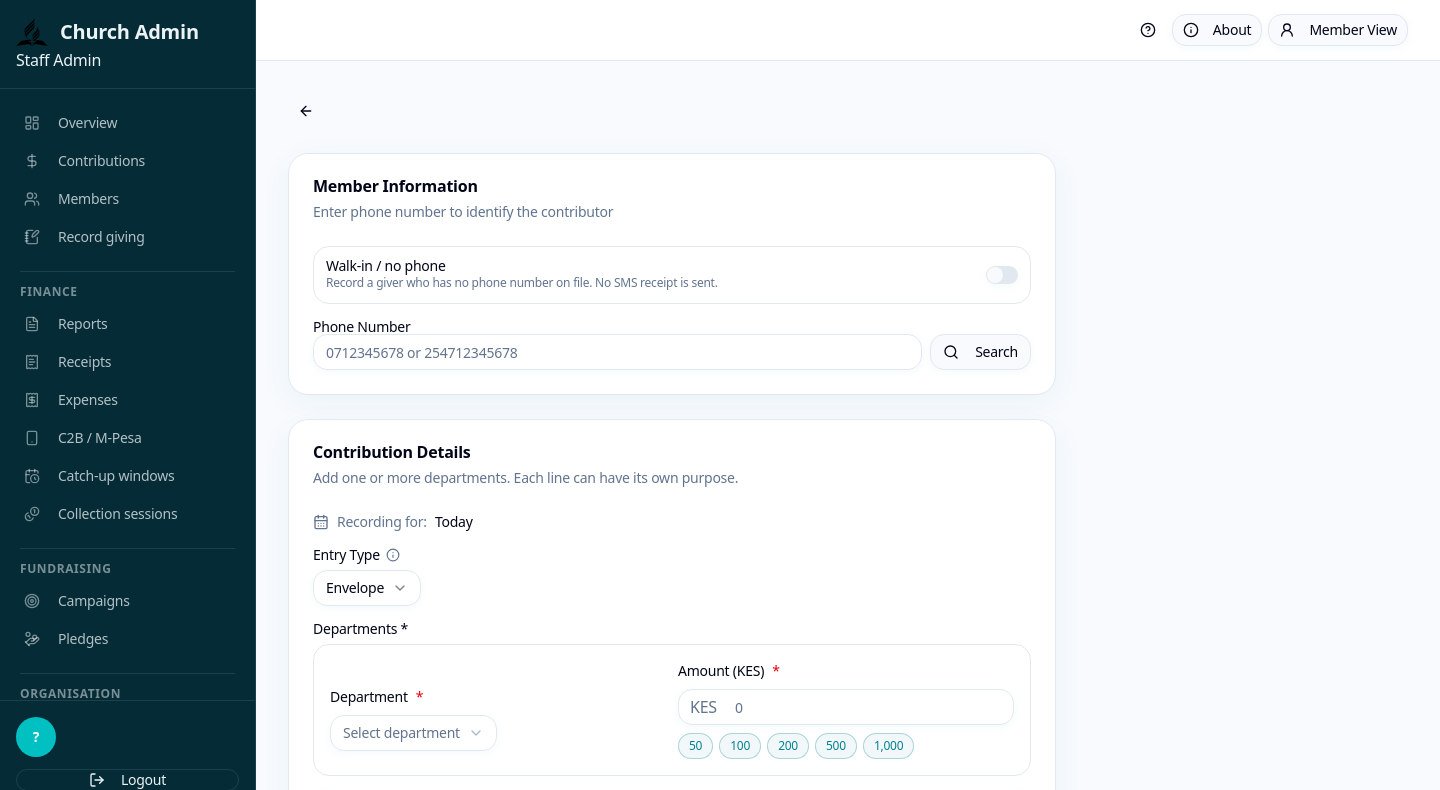
ManualEntryPage › submits a walk-in entry with giverName and no phone
This screenshot has width=1440, height=790.
Click the switch named "Walk-in / no phone" at (1002, 275), box [986, 266, 1018, 284]
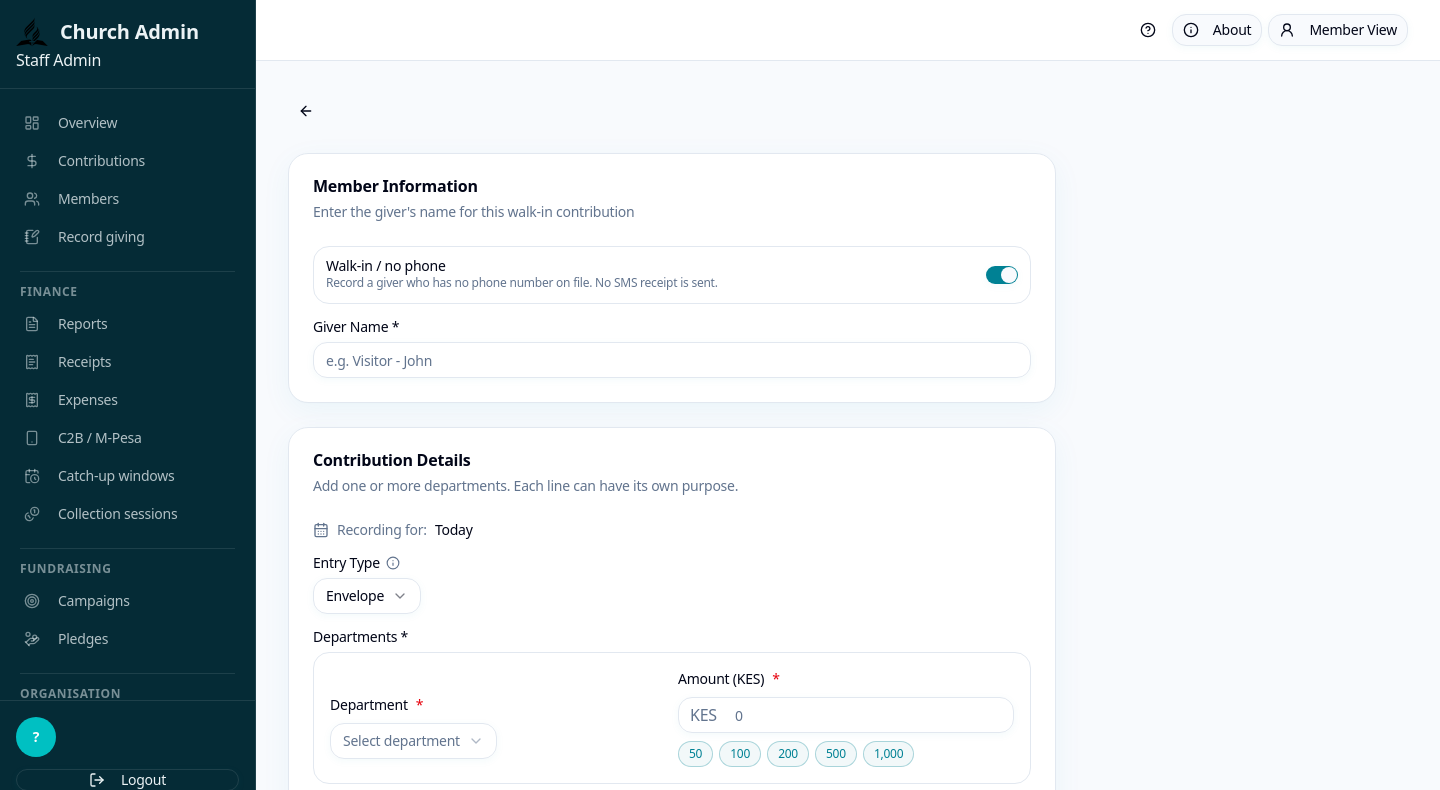
Type "Visitor - John" into the field labelled "Giver Name *" at (672, 360), box [313, 342, 1031, 378]
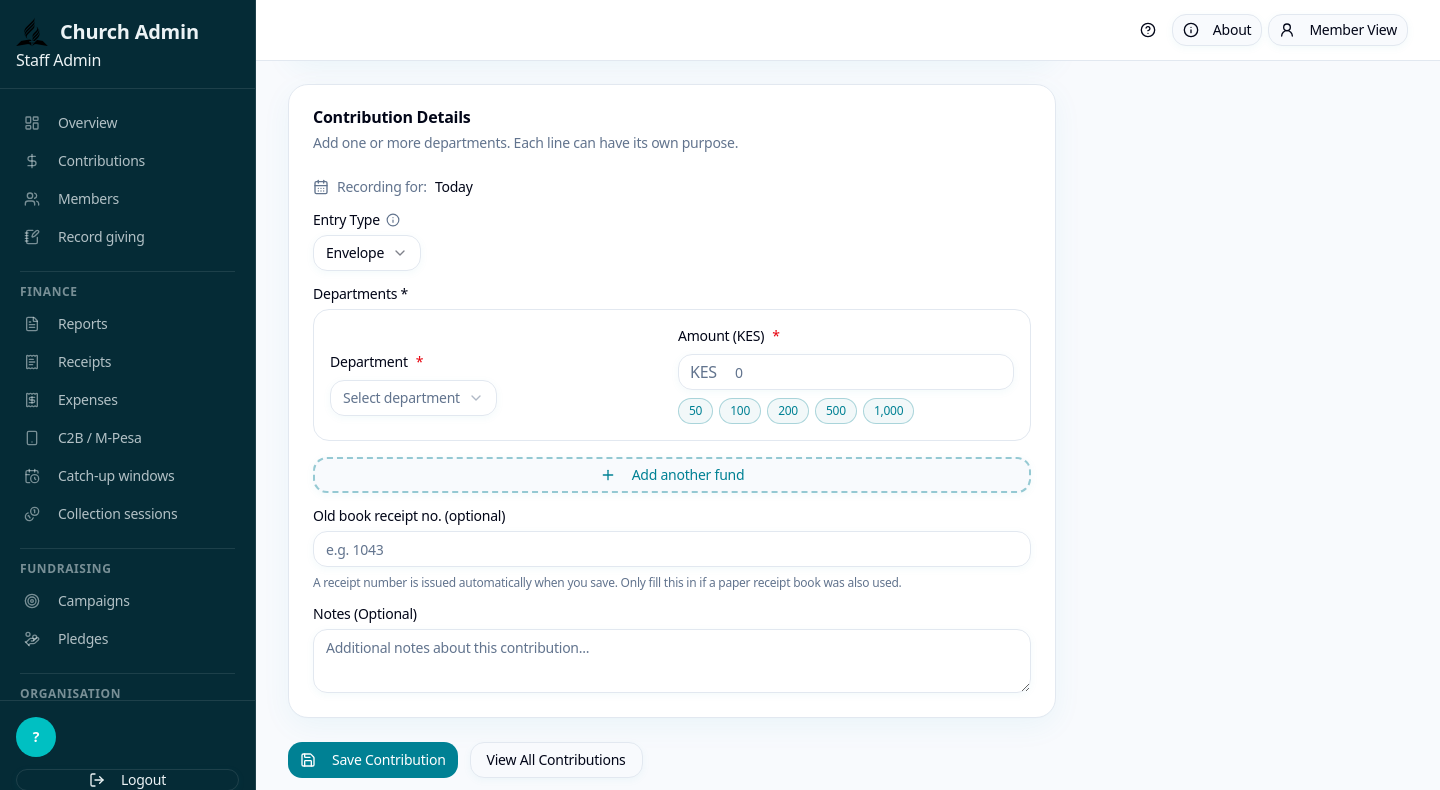
Click the button "Save Contribution" at (373, 760), box [288, 742, 458, 778]
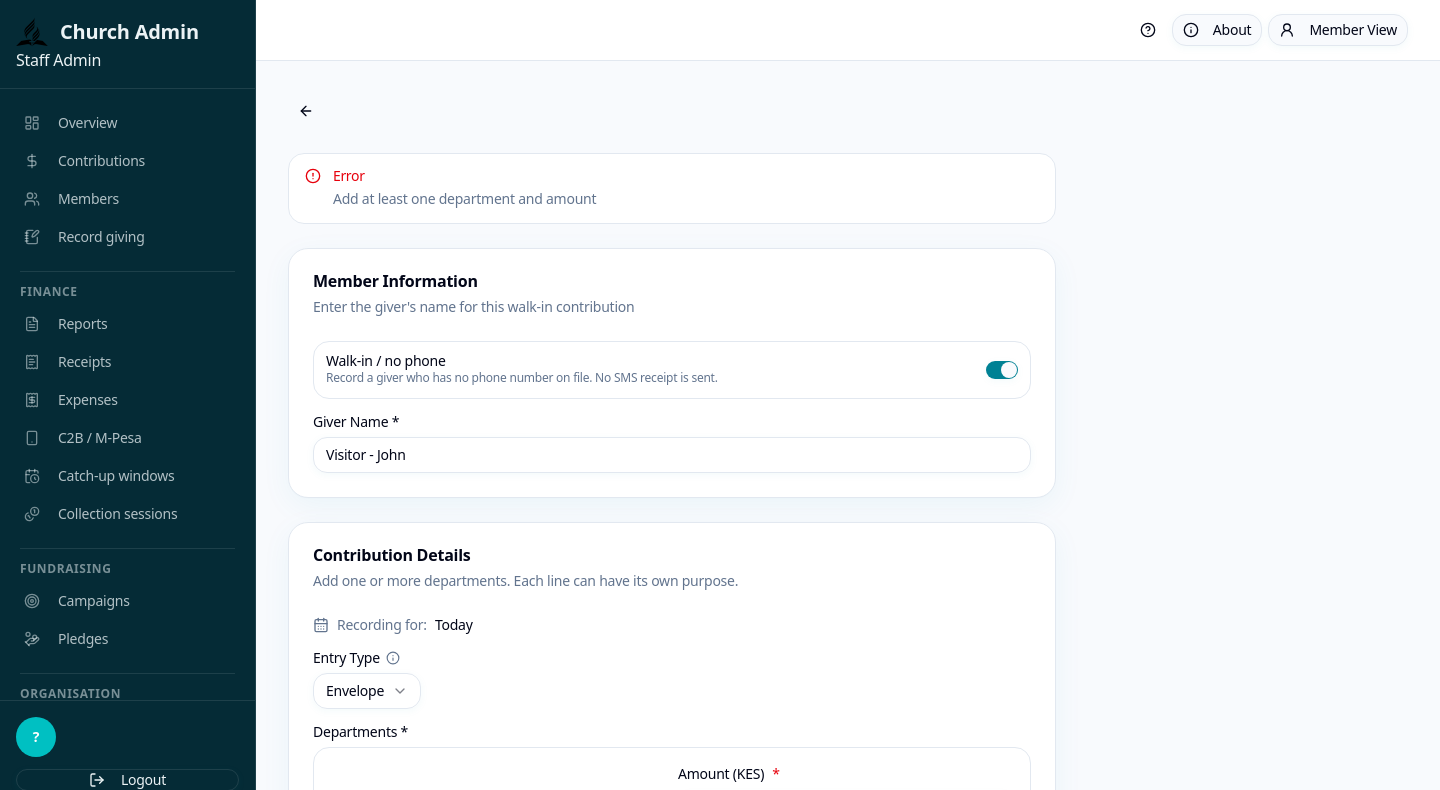
Now the text "Add at least one department and amount" is shown, box [333, 188, 596, 211]
